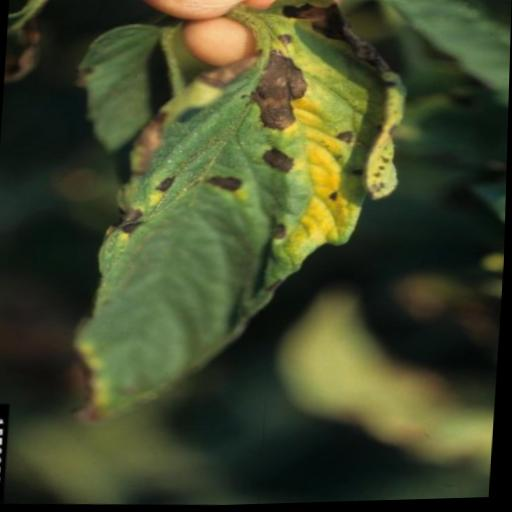Early Blight: (66, 0, 413, 442)
